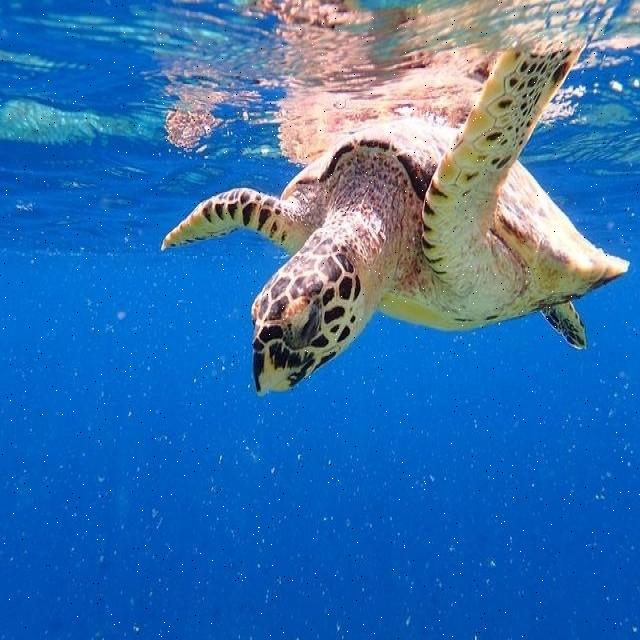fish: (163, 46, 631, 396)
